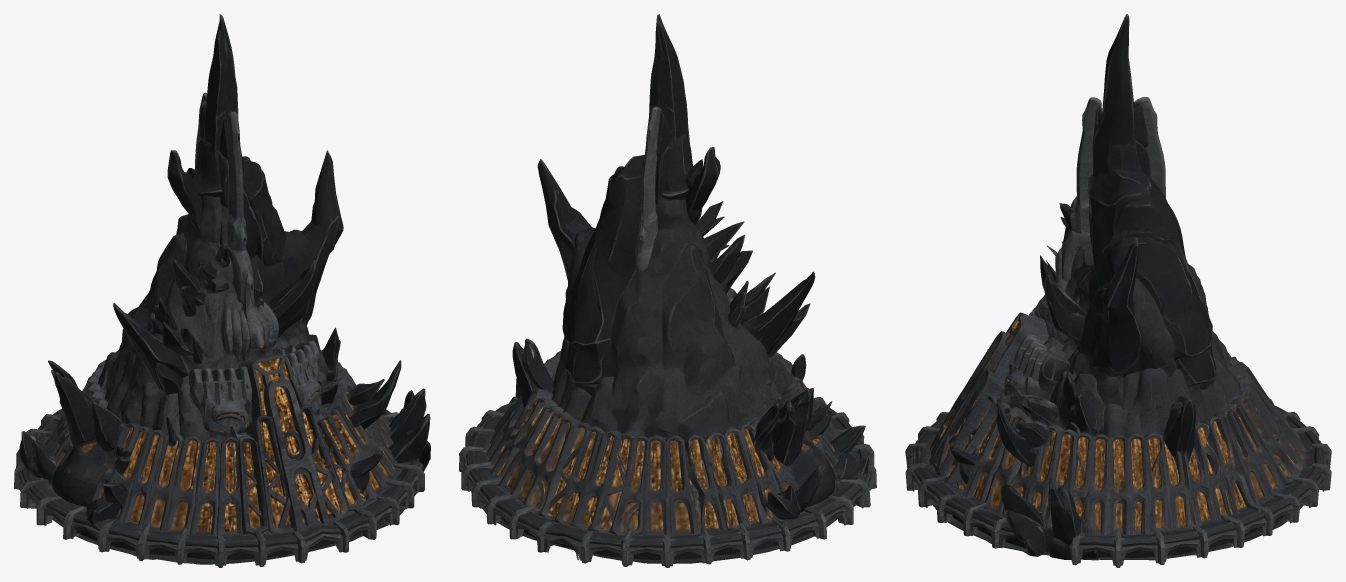
File: dugpalace.glb
The picture shows the model from 3 angles, left to right: view 1: azimuth 30°, elevation 25°; view 2: azimuth 150°, elevation 25°; view 3: azimuth 270°, elevation 25°; orthographic projection.
Parts seen in each view (by area): view 1: dugpalace-centred; view 2: dugpalace-centred; view 3: dugpalace-centred.
Boxes of the visible parts, bbox=[...] form: dugpalace-centred: bbox=[14, 14, 430, 567]; dugpalace-centred: bbox=[459, 14, 876, 567]; dugpalace-centred: bbox=[905, 14, 1331, 567].
Size of the model in its own units: 66.24 by 80 by 66.17.
Materials: 1 (1 with a texture image).
